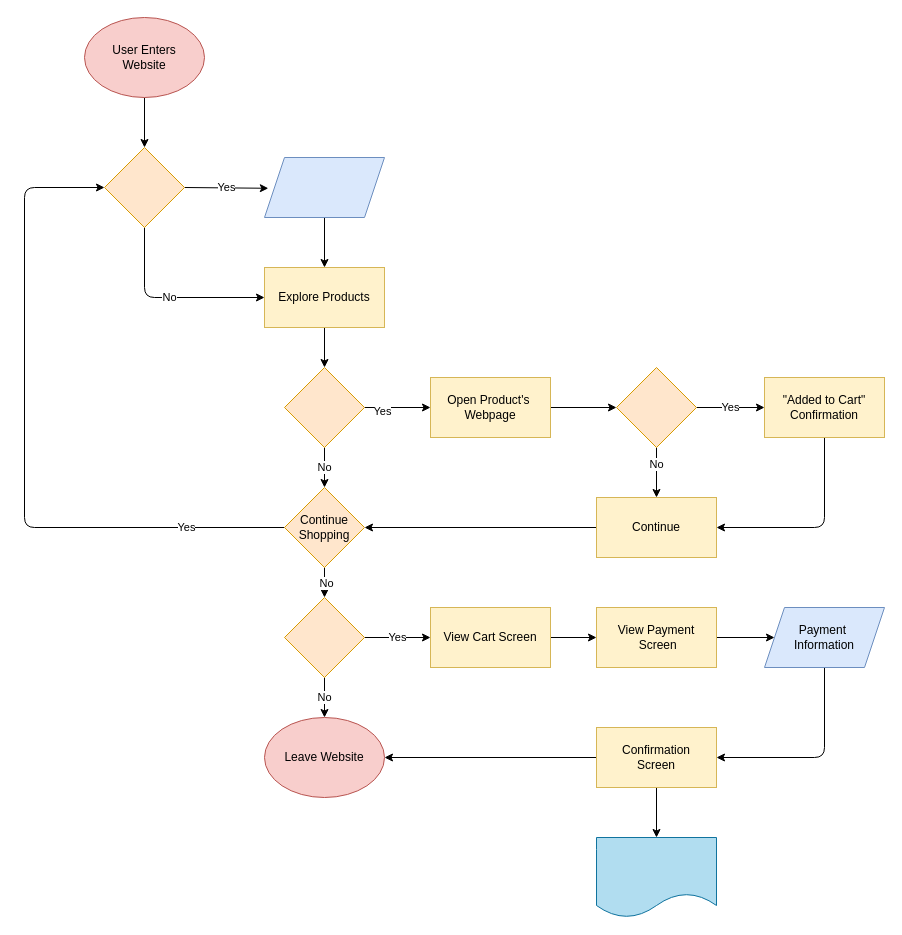
This 902x935 diagram has some shape labels left out. The shapes that lost their labels are listed below. From the top down, each one's centre as x and y in pixels, then its label:
[144,187]: Search Product
[324,187]: Search Query
[324,407]: View Product
[656,407]: Add to Cart
[324,637]: Checkout
[656,877]: Email Confirmation
